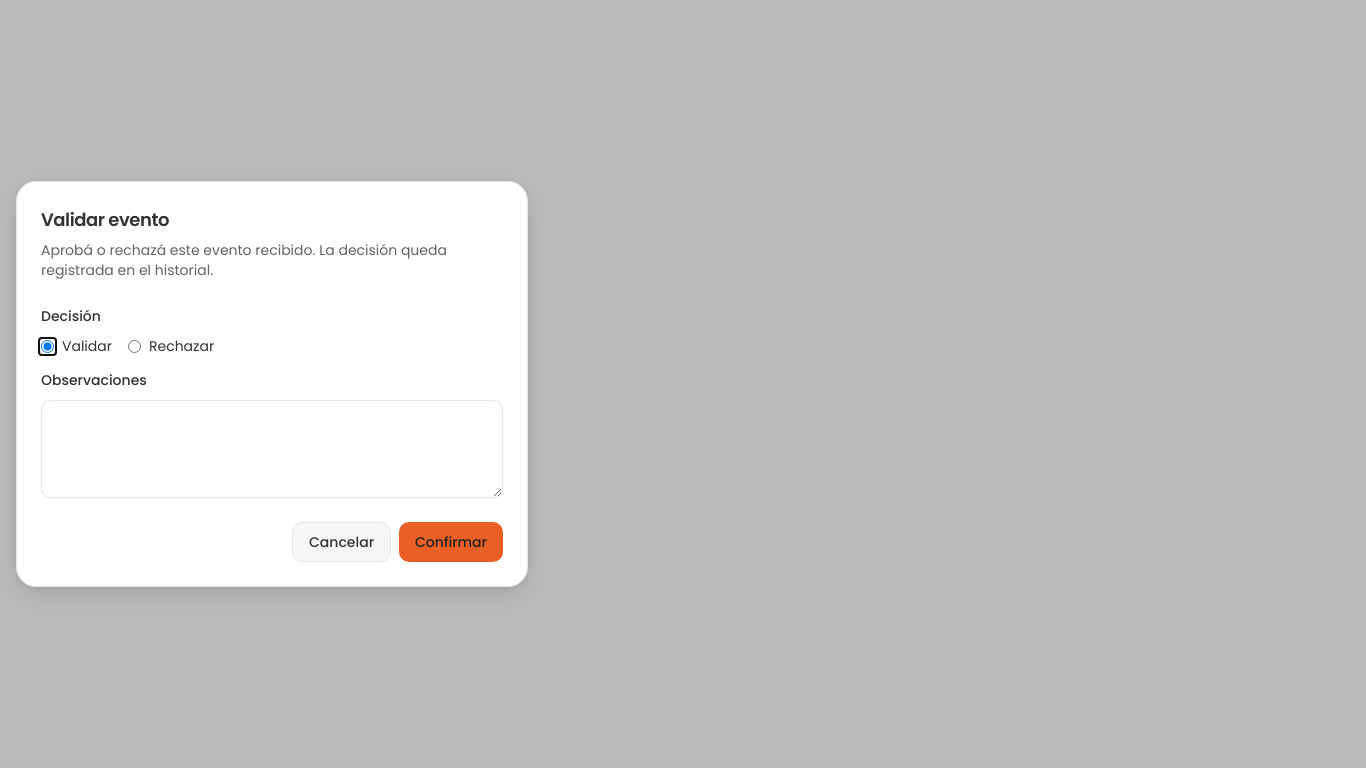
Test case: ValidarEventoModal › T2: rejecting ("rechazado") with blank observaciones stays blocked
Click the radio button with test id "validar-evento-radio-rechazado": (134,346) [128, 340, 141, 352]
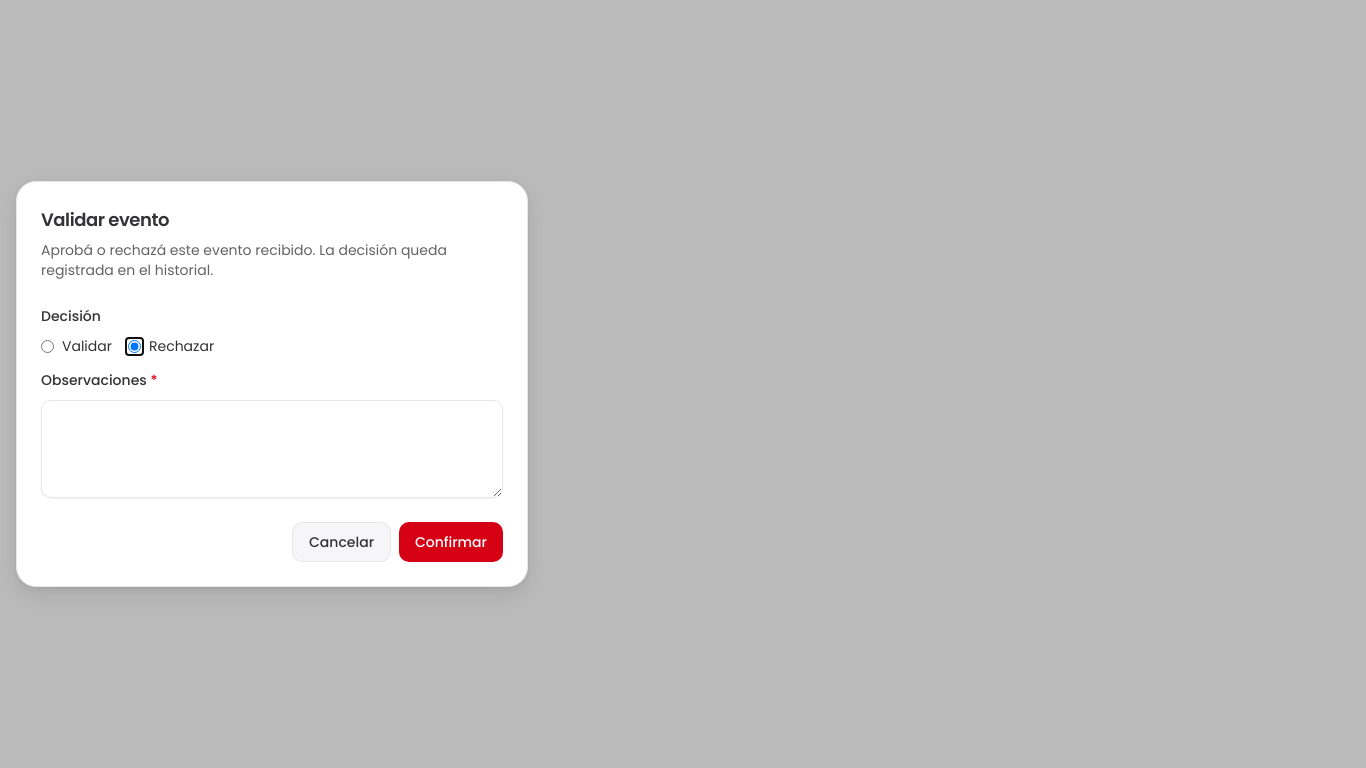
Click the button with test id "validar-evento-submit": (451,542) [399, 522, 503, 562]
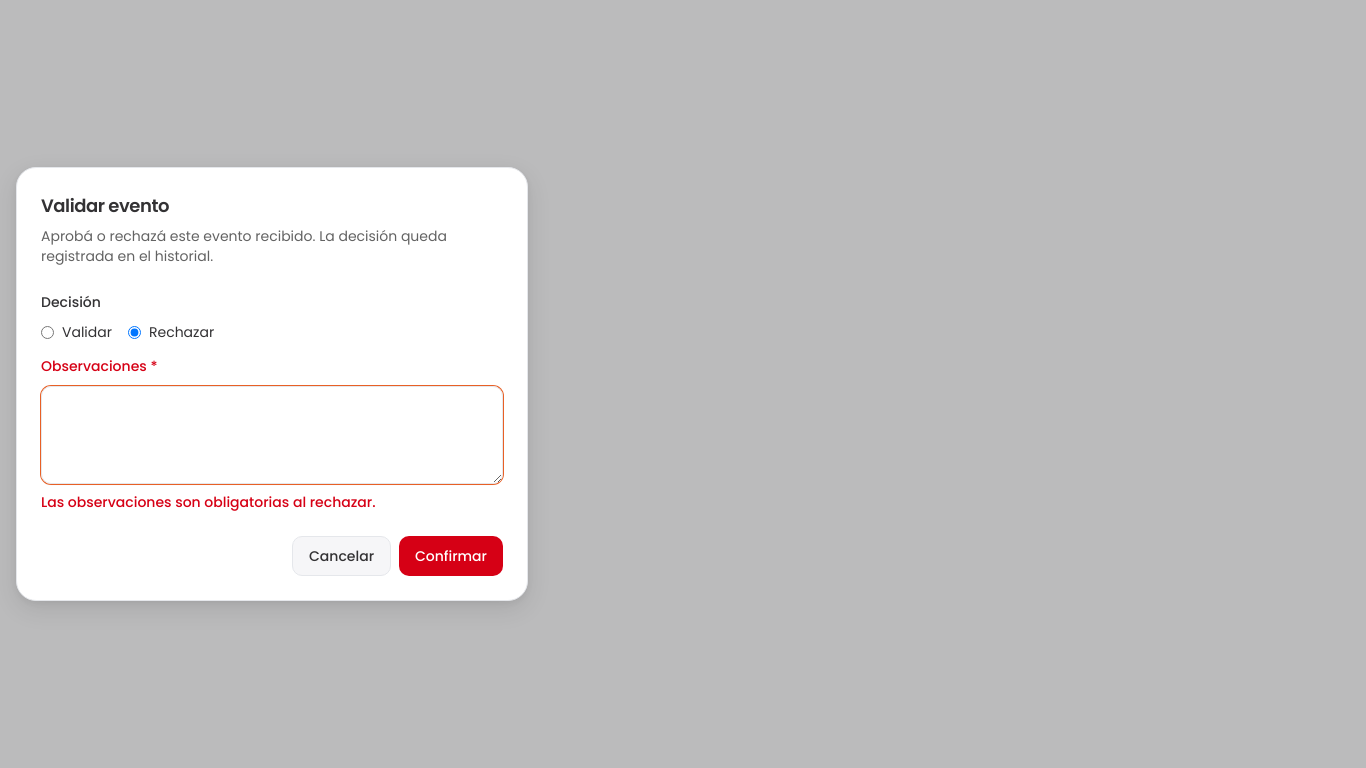
Now the text "Las observaciones son obligatorias al rechazar." is shown, box [41, 492, 376, 512]
